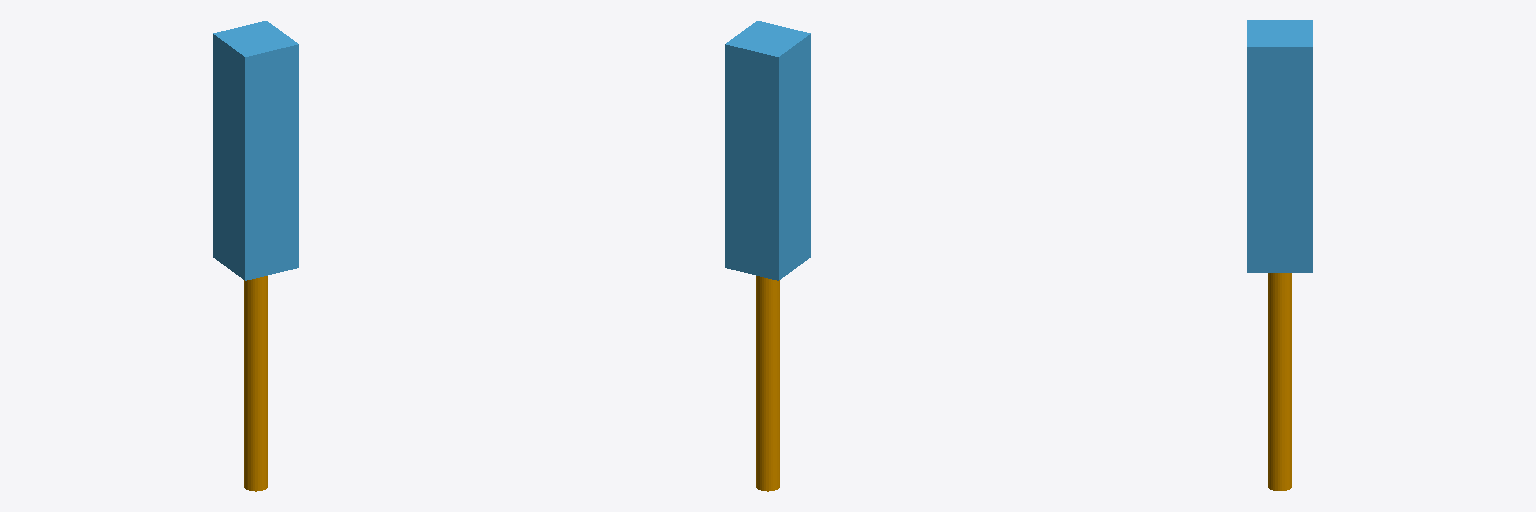
robot.urdf — screwdriver_on_the_table:
<?xml version="1.0" ?>
<!-- this is the one without any virtual joints and links -->
<robot name="screwdriver_on_the_table">
<link name="screwdriver_stick">
    <inertial>
      <mass value="0.05"/>
      <!-- <friction value="1.0"/> -->
      <inertia ixx="0.000041979" ixy="0.0" ixz="0.0" iyy="0.000041979" iyz="0.0" izz="0.000000625"/>
    </inertial>
    <visual>
        <origin rpy="0 0 0" xyz="0 0 0.05"/>
        <geometry>
            <cylinder radius="0.005" length="0.1"/>
        </geometry>
        <!-- <material name="White">
	 	    <color rgba="0.9 0.9 0.9 0.5"/>
        </material> -->
    </visual>
    <collision>
        <origin rpy="0 0 0" xyz="0 0 0.05"/>
        <geometry>
            <cylinder radius="0.005" length="0.1"/>
        </geometry>
    </collision>
</link>

<gazebo reference="screwdriver_body">
    <mu1>1.354356</mu1>
    <mu2>0.753114</mu2>
    <!-- Isaac Sim maps mu1/mu2 to PhysX static/dynamic friction during URDF→USD import -->
</gazebo>

<joint name="screwdriver_stick_body_joint" type="fixed">
    <parent link="screwdriver_stick"/>
    <child link="screwdriver_body"/>
    <origin rpy="0 0 0" xyz="0 0 0.1"/> 
    <axis xyz="0 0 1"/>
</joint>

<link name="screwdriver_body">
    <inertial>
      <mass value="0.166038"/>
      <inertia ixx="0.000147909" ixy="0.0" ixz="0.0" iyy="0.000147082" iyz="0.0" izz="0.000018261"/>
    </inertial>
    <visual>
        <origin rpy="0 0 0" xyz="0 0 0.05"/>
        <geometry>
            <box size="0.025099 0.026264 0.100000"/>
        </geometry>
        <!-- <material name="Red1">
	 	    <color rgba="0.9 0. 0. 0.5"/>
        </material> -->
    </visual>
    <collision>
        <origin rpy="0 0 0" xyz="0 0 0.05"/>
        <geometry>
            <box size="0.025099 0.026264 0.100000"/>
        </geometry>
    </collision>
</link>

<!-- <joint name="screwdriver_body_cap_joint" type="revolute">
    <parent link="screwdriver_body"/>
    <child link="screwdriver_cap"/>
    <origin rpy="0 0 0" xyz="0 0 0.1"/> 
    <axis xyz="0 0 1"/>
</joint>

<link name="screwdriver_cap">
    <inertial>
      <mass value="0.005"/>
      <inertia ixx="0.00001" ixy="0.0" ixz="0.0" iyy="0.000005" iyz="0.0" izz="0.000005"/>
    </inertial>
    <visual>
        <origin rpy="0 0 0" xyz="0 0 0.0006"/>
        <geometry>
            <cylinder radius="0.02" length="0.001"/>
        </geometry>
        <material name="Yellow">
	 	    <color rgba="0.9 0.9 0. 1.0"/>
        </material>
    </visual>
    <collision>
        <origin rpy="0 0 0" xyz="0 0 0.0005"/>
        <geometry>
            <cylinder radius="0.02" length="0.001"/>
        </geometry>
    </collision>
</link> -->

</robot>

--- What the picture shows (computed from the rendered views, not written in the file) ---
Views: 3 orthographic renders of the robot side by side, from view 1: azimuth 30°, elevation 25°; view 2: azimuth 150°, elevation 25°; view 3: azimuth 270°, elevation 25°.
Robot: screwdriver_on_the_table — 2 links, 1 joints (1 fixed); root link screwdriver_stick; default pose: every joint at zero.
Links seen in each view (by area): view 1: screwdriver_body, screwdriver_stick; view 2: screwdriver_body, screwdriver_stick; view 3: screwdriver_body, screwdriver_stick.
Boxes of the visible links, x1,y1,x2,y2 form: screwdriver_body: [213, 21, 298, 280]; screwdriver_stick: [244, 276, 267, 491]; screwdriver_body: [725, 21, 810, 280]; screwdriver_stick: [756, 276, 779, 491]; screwdriver_body: [1247, 20, 1312, 272]; screwdriver_stick: [1268, 273, 1291, 490].
Size in the robot's own frame: 0.0251 by 0.0263 by 0.2 metres.
Geometry: primitives only (box / cylinder / sphere), no mesh files.
